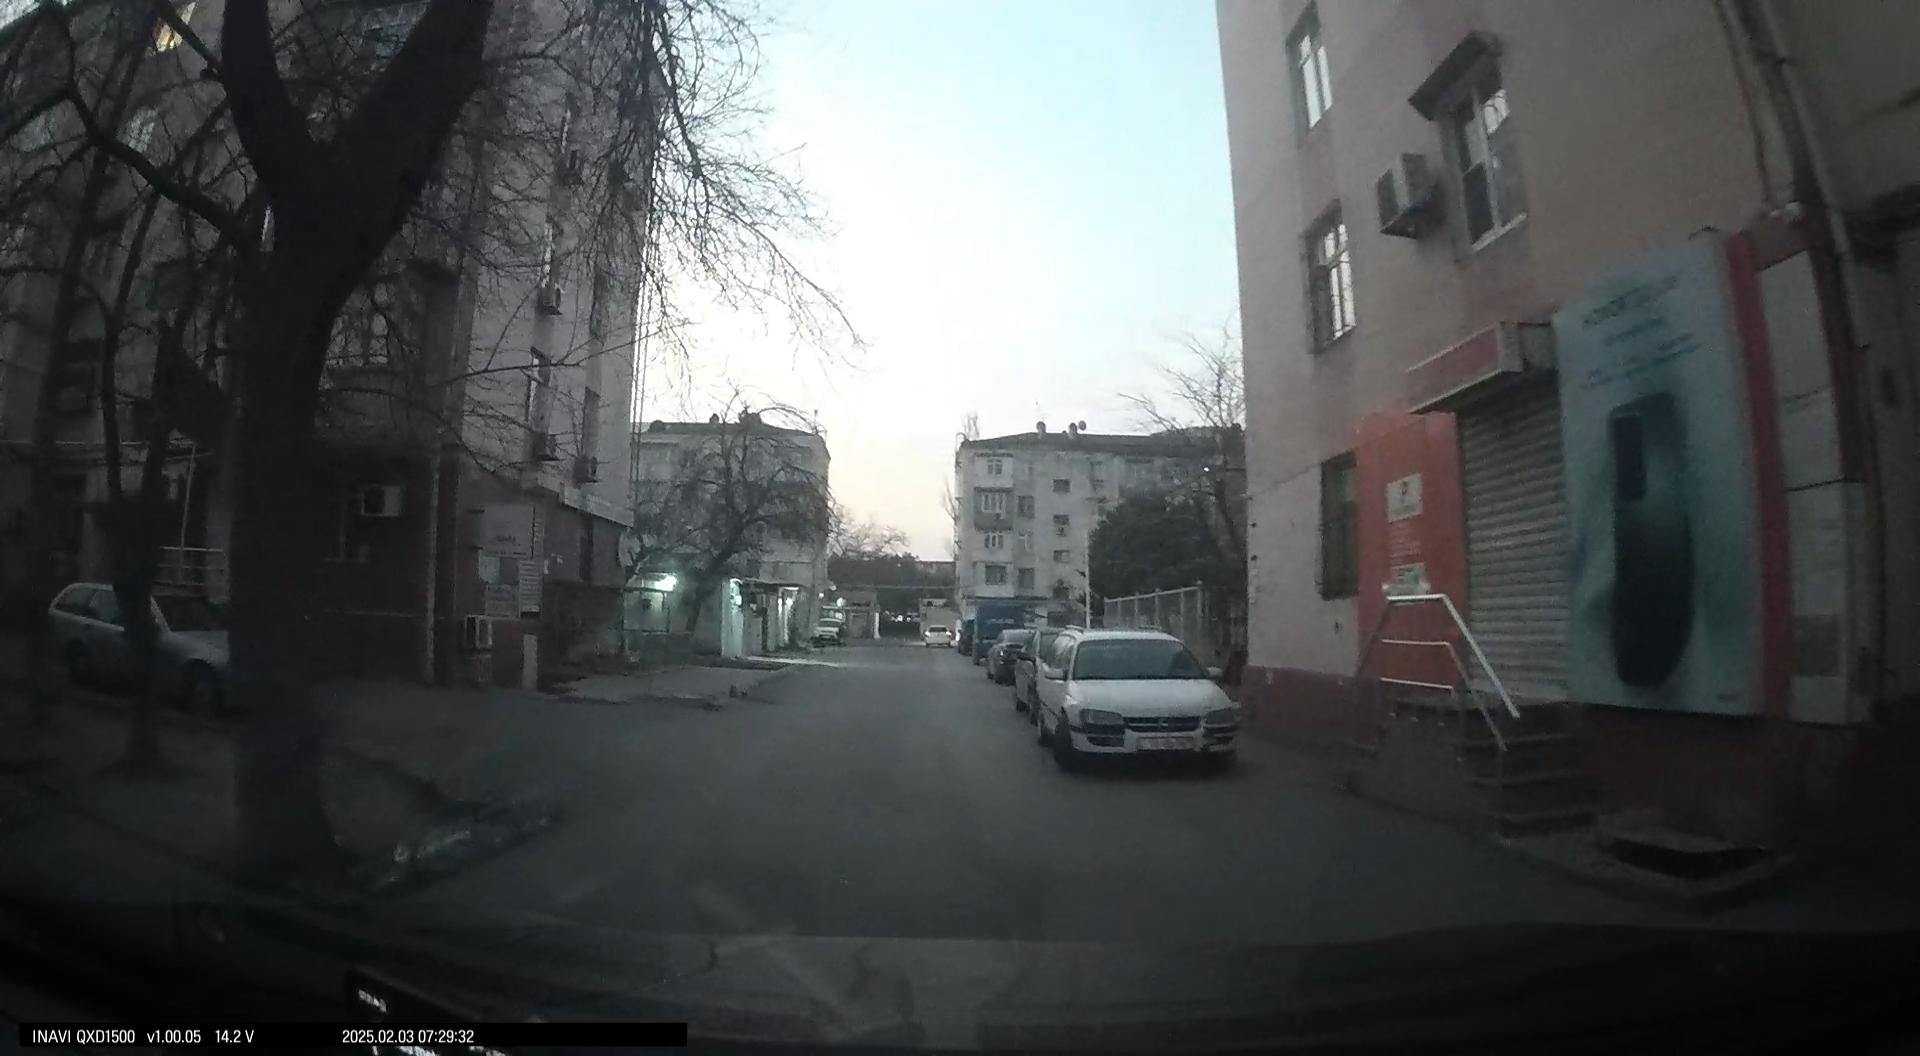banner: (1537, 237, 1765, 743)
